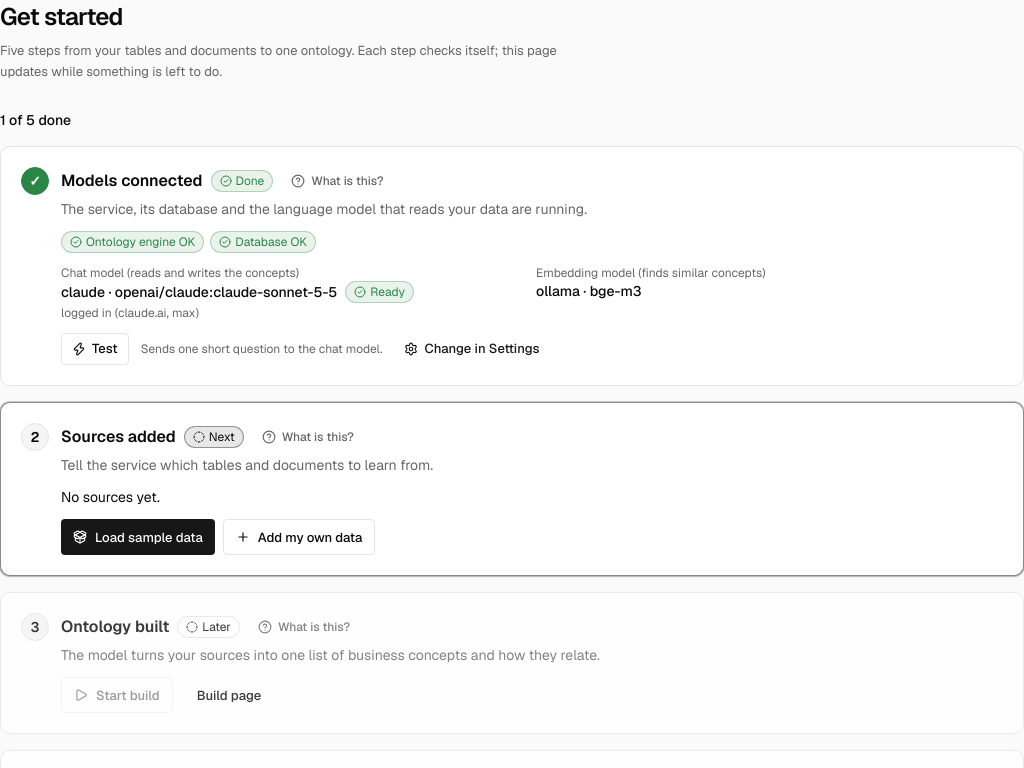
it: Home page › tests the provider and explains a step in a popover
What coordinates should you click on to do the following:
click the button "Test"
I would click on:
 (95, 350)
Its box is [61,334,129,366].
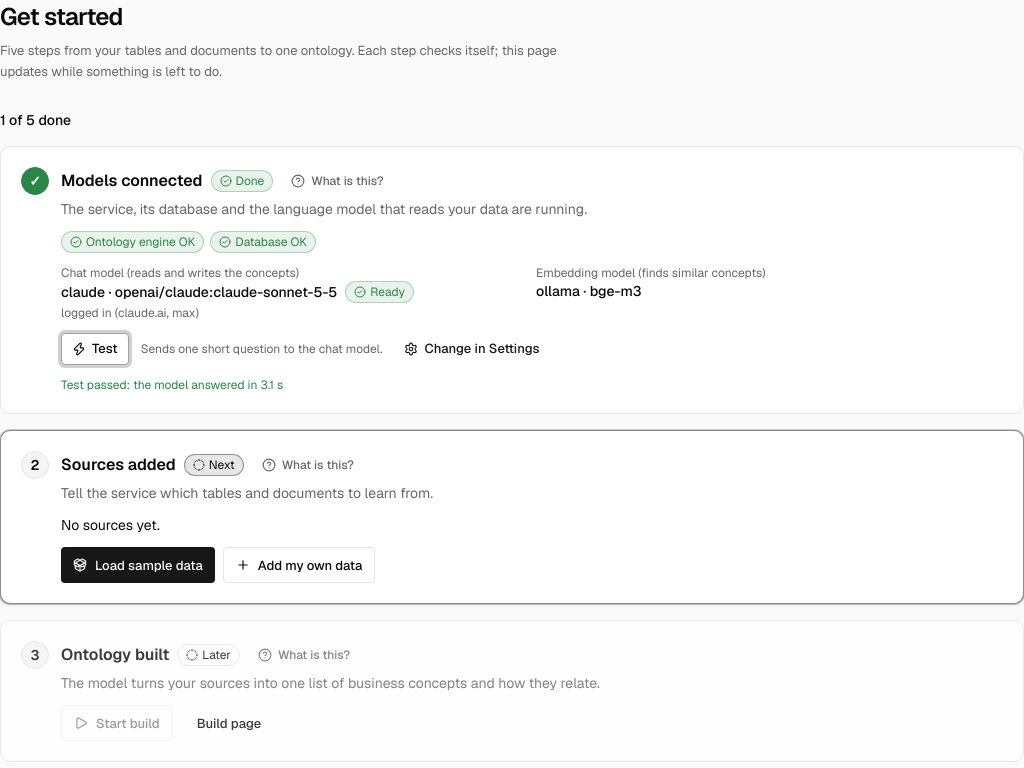
Now the text "Test passed: the model answered in 3.1 s" is shown, box [61,378,283,394]
What coordinates should you click on to do the following:
click the button "What is this?" in the row of "Ontology built"
I would click on:
 (304, 656)
Its box is [248,642,360,670].
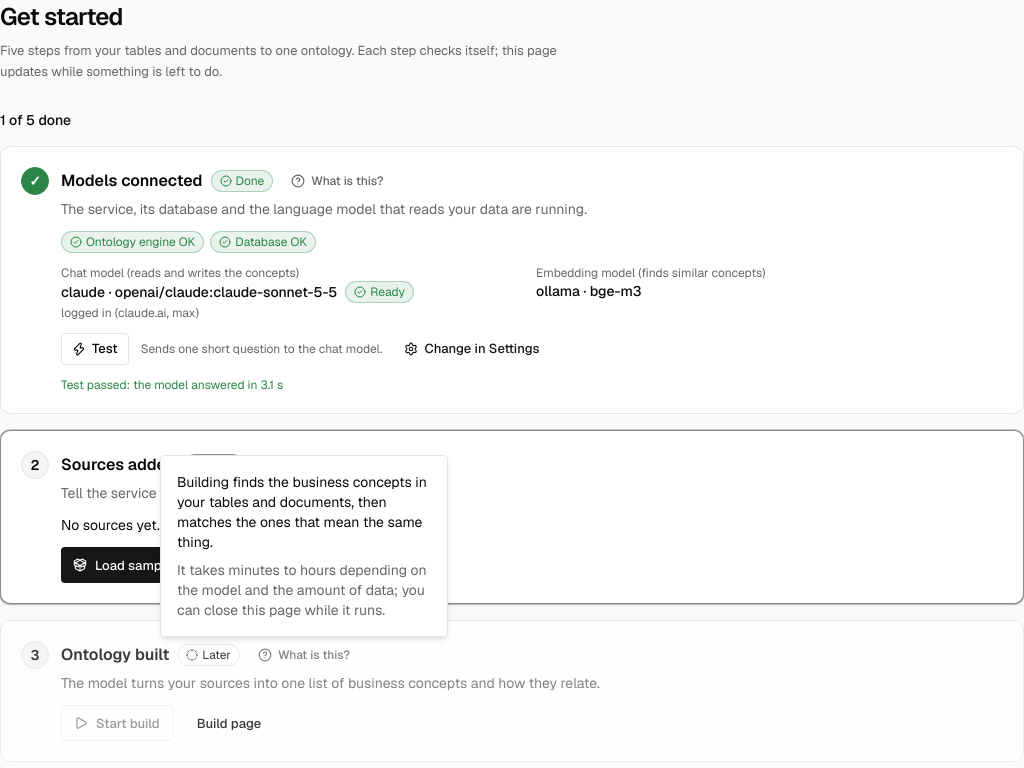
Now the text "Building finds the business concepts" is shown, box [177,473,427,551]
